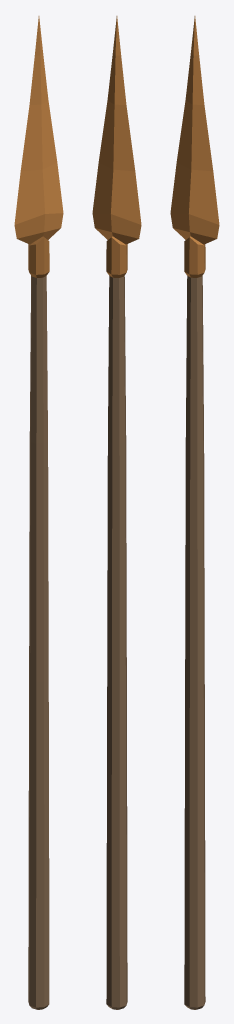
File: SM_pwe_egypt_spear_04.fbx
3 views of the same model, side by side, from view 1: azimuth 30°, elevation 25°; view 2: azimuth 150°, elevation 25°; view 3: azimuth 330°, elevation 25° (orthographic).
Parts seen in each view (by area): view 1: SM_pwe_egypt_spear_04; view 2: SM_pwe_egypt_spear_04; view 3: SM_pwe_egypt_spear_04.
Boxes of the visible parts, box(x1,y1,x2,y2) form: SM_pwe_egypt_spear_04: box(14, 16, 63, 1009); SM_pwe_egypt_spear_04: box(92, 16, 141, 1009); SM_pwe_egypt_spear_04: box(170, 16, 219, 1009).
Bounding box in the file's own units: 12.68 × 246 × 5.54.
